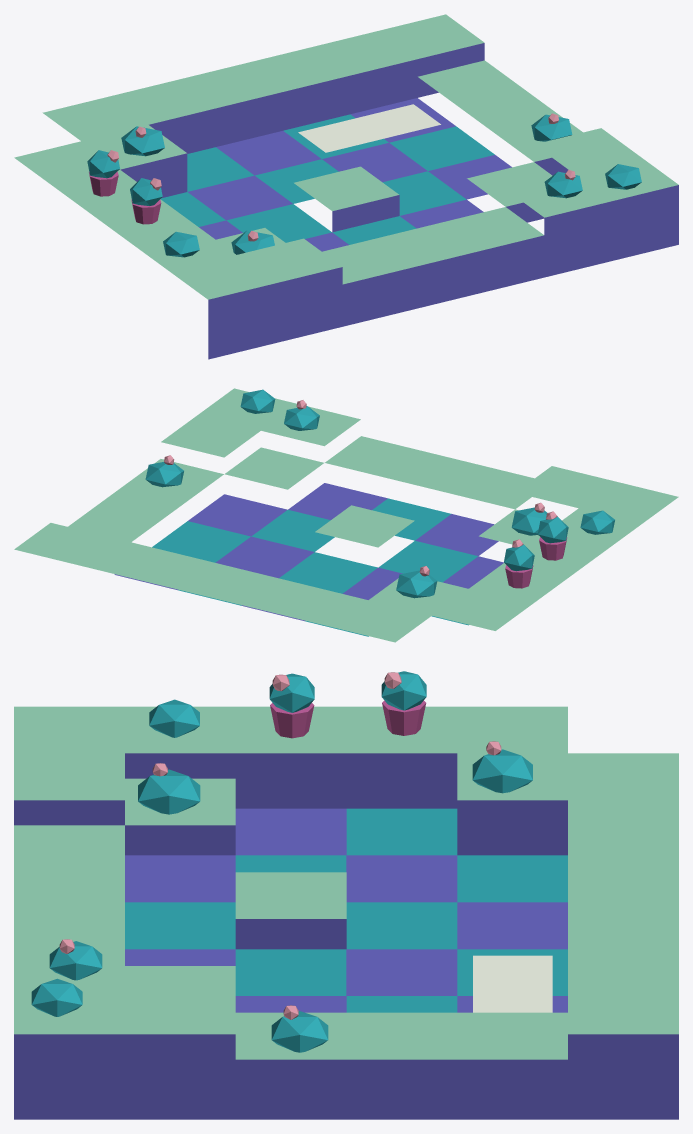
Rendered from room2.glb.
3 views of the same model, one above another, from view 1: azimuth 30°, elevation 25°; view 2: azimuth 150°, elevation 25°; view 3: azimuth 270°, elevation 25° (orthographic). The views are drawn at different scales.
Parts seen in each view (by area): view 1: Room, Bush4, Bush1, Bush5, Bush0, Bush6, PotLeaf3, PotLeaf7, Bush2; view 2: Room, Bush4, Bush1, Bush2, Bush6, Bush5, Bush0, PotLeaf7, PotLeaf3, Pot7, Pot3; view 3: Room, Bush2, Bush4, Bush1, Bush0, Bush6, Bush5, PotLeaf3, PotLeaf7, Pot7, Pot3.
Part boxes in pixels (box(x1,y1,x2,y2)): Room: box(14, 14, 678, 359); Bush4: box(121, 126, 164, 156); Bush1: box(531, 114, 572, 141); Bush5: box(163, 231, 199, 257); Bush0: box(605, 164, 641, 189); Bush6: box(544, 171, 582, 198); PotLeaf3: box(87, 150, 119, 178); PotLeaf7: box(130, 178, 162, 205); Bush2: box(231, 230, 274, 254); Room: box(14, 388, 678, 642); Bush4: box(396, 570, 437, 598); Bush1: box(145, 462, 183, 487); Bush2: box(511, 507, 547, 535); Bush6: box(284, 406, 319, 430); Bush5: box(580, 510, 614, 534); Bush0: box(240, 389, 275, 413); PotLeaf7: box(537, 516, 568, 543); PotLeaf3: box(504, 544, 534, 571); Pot7: box(539, 537, 567, 560); Pot3: box(505, 565, 533, 588); Room: box(14, 706, 678, 1119); Bush2: box(138, 769, 200, 814); Bush4: box(472, 749, 532, 793); Bush1: box(271, 1011, 328, 1052); Bush0: box(31, 978, 82, 1016); Bush6: box(49, 941, 102, 980); Bush5: box(149, 699, 199, 737); PotLeaf3: box(381, 671, 426, 710); PotLeaf7: box(269, 673, 314, 712); Pot7: box(270, 703, 314, 738); Pot3: box(382, 700, 426, 735).
Bounding box in the file's own units: 7 × 1.45 × 6.
